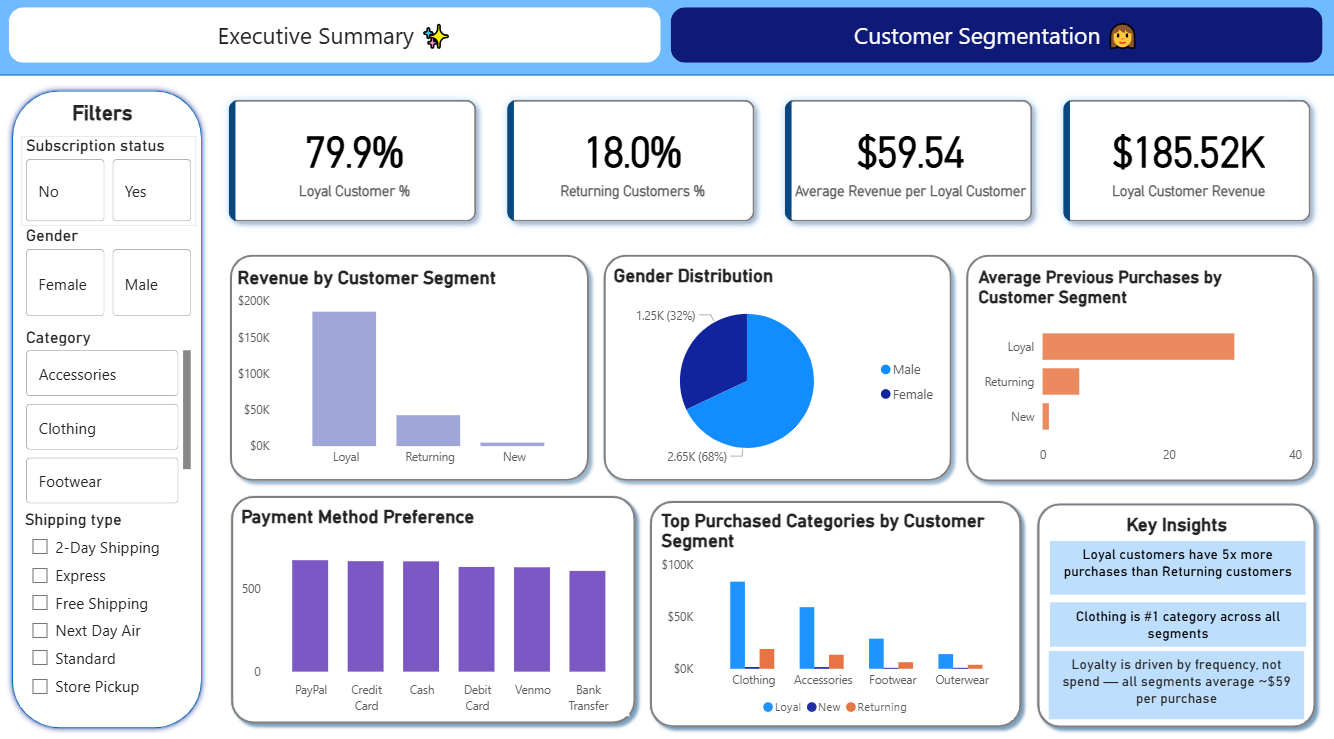

The dashboard page shown, as its layout file describes it:
{"tool":"powerbi","page":{"name":"Customer Segmentation 👩","canvas":[1400,780],"ordinal":1},"visuals":[{"type":"shape","box":[1005.6,262.2,378.9,252.1],"z":0},{"type":"shape","box":[238.6,514.3,437.1,252.9],"z":1000},{"type":"shape","box":[0,0,1400,82.9],"z":2000},{"type":"pageNavigator","box":[14.3,11.4,1370,58.6],"z":3000},{"type":"shape","box":[237.1,261.4,390,251.4],"z":4000},{"type":"shape","box":[627.1,261.4,378.6,251.4],"z":5000},{"type":"cardVisual","fields":{"Data":["customer.Loyal Customer %","customer.Returning Customers %","customer.Avg Revenue per Loyal Customer","customer.Loyal Customer Revenue"]},"box":[219,83.6,1181.3,177.2],"z":6000},{"type":"clusteredColumnChart","title":"Revenue by Customer Segment","fields":{"Category":["customer.Customer Segment"],"Y":["Sum(customer.purchase_amount)"]},"box":[253.6,282.4,358.7,211.8],"z":7000},{"type":"barChart","title":"Average Previous Purchases by Customer Segment","fields":{"Category":["customer.Customer Segment"],"Y":["Avg(customer.previous_purchases)"]},"box":[1021.4,282.4,347.2,214.7],"z":8000},{"type":"shape","box":[11.4,92.9,210,677.1],"z":9000},{"type":"pieChart","title":"Gender Distribution","fields":{"Category":["customer.gender"],"Y":["CountNonNull(customer.customer_id)"]},"box":[645.4,280.9,342.9,216.1],"z":10000},{"type":"shape","box":[675.7,518.6,402.9,251.4],"z":11000},{"type":"clusteredColumnChart","title":"Top Purchased Categories by Customer Segment","fields":{"Category":["customer.category"],"Y":["Sum(customer.purchase_amount)"],"Series":["customer.Customer Segment"]},"box":[694.5,535.5,367.3,219.1],"z":12000},{"type":"shape","box":[1079,521.5,305.4,249.2],"z":13000},{"type":"textbox","box":[1167.1,535.7,131.4,32.9],"z":14000},{"type":"advancedSlicerVisual","title":"Subscription status","fields":{"Values":["customer.subscription_status"]},"box":[27.1,145.7,182.9,94.3],"z":15000},{"type":"advancedSlicerVisual","title":"Category","fields":{"Values":["customer.category"]},"box":[27.1,345.7,182.9,190],"z":16000},{"type":"advancedSlicerVisual","title":"Gender","fields":{"Values":["customer.gender"]},"box":[27.1,240,182.9,100],"z":17000},{"type":"slicer","title":"Shipping type","fields":{"Values":["customer.shipping_type"]},"box":[25.7,535.7,174.3,205.7],"z":18000},{"type":"textbox","box":[75.7,104.3,75.7,41.4],"z":19000},{"type":"textbox","box":[1100.6,569,266.5,56.2],"z":20000},{"type":"clusteredColumnChart","title":"Payment Method Preference","fields":{"Category":["customer.payment_method"],"Y":["CountNonNull(customer.customer_id)"]},"box":[256.8,531.9,400.3,219],"z":21000},{"type":"textbox","box":[1100,632.1,267.1,46.4],"z":22000},{"type":"textbox","box":[1098.9,683.3,266.7,71.1],"z":23000}]}

Visuals, with their boxes in screenshot pixels (x1, y1, x2, y2), scaled from the page's 1400x780 canvas onto the 1334x739 screenshot:
shape: pyautogui.locateOnScreen(958, 248, 1319, 487)
shape: pyautogui.locateOnScreen(227, 487, 644, 727)
shape: pyautogui.locateOnScreen(0, 0, 1333, 79)
pageNavigator: pyautogui.locateOnScreen(14, 11, 1319, 66)
shape: pyautogui.locateOnScreen(226, 248, 598, 486)
shape: pyautogui.locateOnScreen(598, 248, 958, 486)
cardVisual - customer.Loyal Customer % x customer.Returning Customers %: pyautogui.locateOnScreen(209, 79, 1333, 247)
"Revenue by Customer Segment" clusteredColumnChart: pyautogui.locateOnScreen(242, 268, 583, 468)
"Average Previous Purchases by Customer Segment" barChart: pyautogui.locateOnScreen(973, 268, 1304, 471)
shape: pyautogui.locateOnScreen(11, 88, 211, 730)
"Gender Distribution" pieChart: pyautogui.locateOnScreen(615, 266, 942, 471)
shape: pyautogui.locateOnScreen(644, 491, 1028, 730)
"Top Purchased Categories by Customer Segment" clusteredColumnChart: pyautogui.locateOnScreen(662, 507, 1012, 715)
shape: pyautogui.locateOnScreen(1028, 494, 1319, 730)
textbox: pyautogui.locateOnScreen(1112, 508, 1237, 539)
"Subscription status" advancedSlicerVisual: pyautogui.locateOnScreen(26, 138, 200, 227)
"Category" advancedSlicerVisual: pyautogui.locateOnScreen(26, 328, 200, 508)
"Gender" advancedSlicerVisual: pyautogui.locateOnScreen(26, 227, 200, 322)
"Shipping type" slicer: pyautogui.locateOnScreen(24, 508, 191, 702)
textbox: pyautogui.locateOnScreen(72, 99, 144, 138)
textbox: pyautogui.locateOnScreen(1049, 539, 1303, 592)
"Payment Method Preference" clusteredColumnChart: pyautogui.locateOnScreen(245, 504, 626, 711)
textbox: pyautogui.locateOnScreen(1048, 599, 1303, 643)
textbox: pyautogui.locateOnScreen(1047, 647, 1301, 715)
